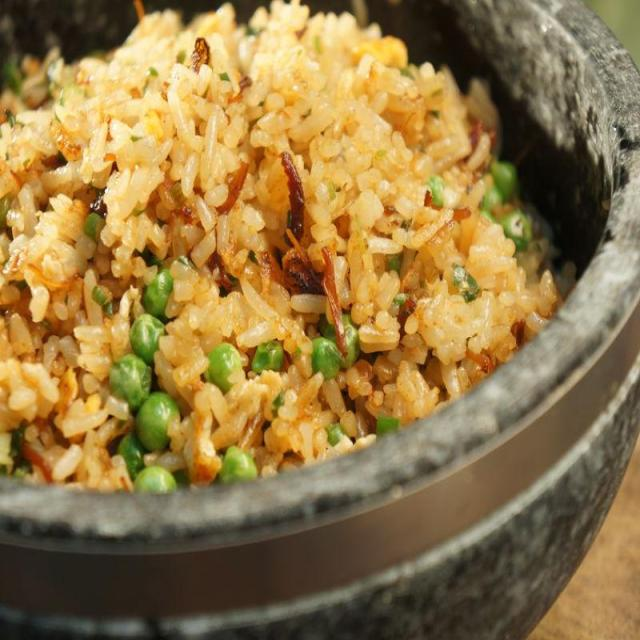Nasi Goreng: (0, 0, 562, 493)
